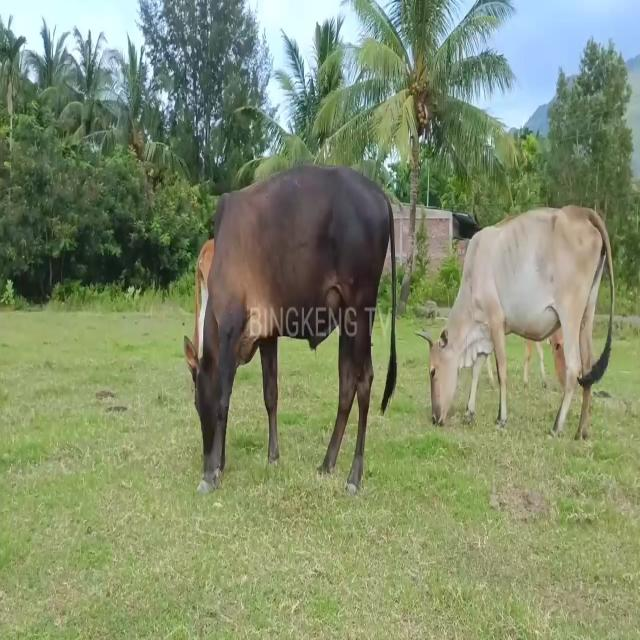cow: (183, 161, 400, 493), (413, 200, 618, 446)
